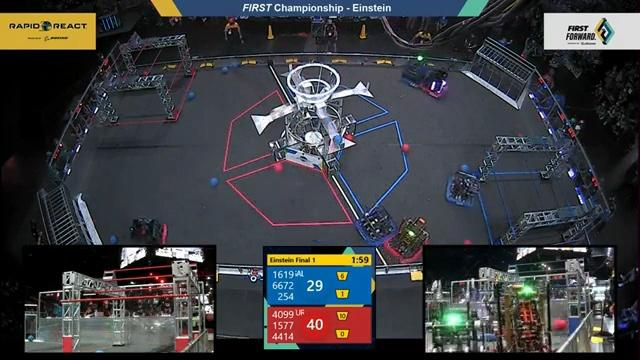robot: (379, 214, 431, 264), (437, 163, 487, 211), (349, 204, 398, 245), (396, 53, 433, 93), (122, 214, 169, 245), (415, 68, 453, 105)
